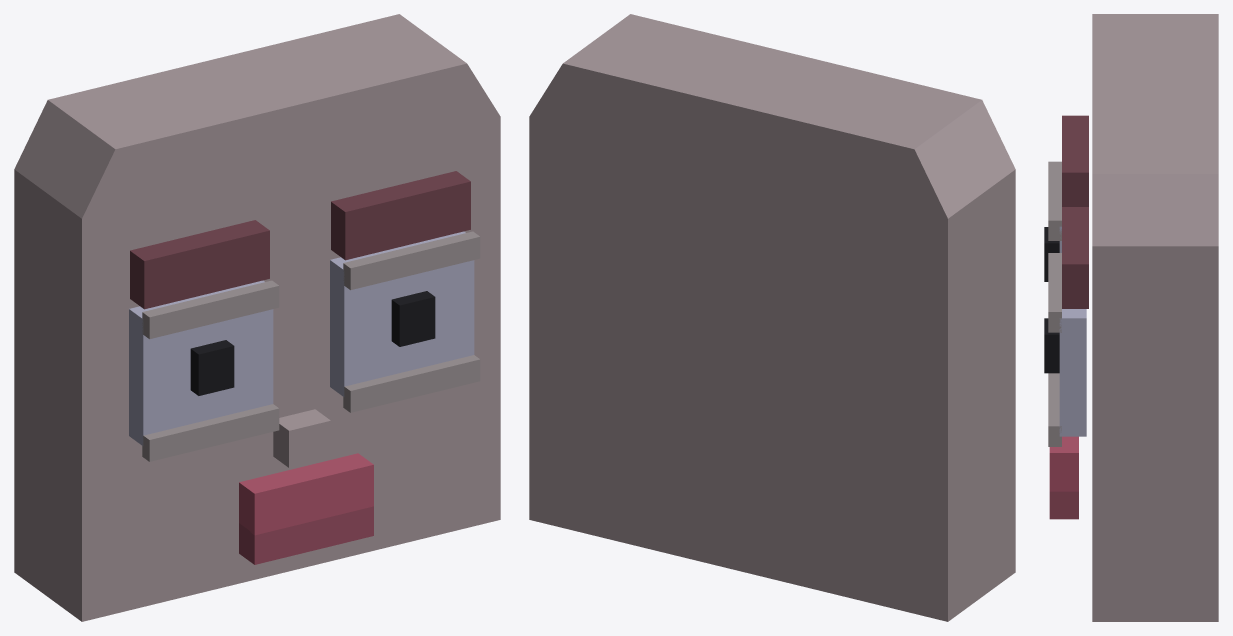
3 renders of one model, left to right at view 1: azimuth 30°, elevation 25°; view 2: azimuth 150°, elevation 25°; view 3: azimuth 270°, elevation 25°, orthographic. The views are drawn at different scales.
Parts seen in each view (by area): view 1: HEAD - flat low-poly rectangle, Eye_L, Eye_R, Eyebrow_L, Eyebrow_R, Upper_lip, Lower_lip, Upper_lid_L, Upper_lid_R, Lower_lid_R, Lower_lid_L, Nose (+2 smaller); view 2: HEAD - flat low-poly rectangle; view 3: HEAD - flat low-poly rectangle, Eye_R, Eyebrow_R, Eyebrow_L, Upper_lip, Upper_lid_L, Upper_lid_R, Lower_lid_R, Lower_lip, Pupil_R, Pupil_L.
Part boxes in pixels (<box>): HEAD - flat low-poly rectangle: <box>14,14,500,621</box>; Eye_L: <box>129,280,273,445</box>; Eye_R: <box>330,231,474,396</box>; Eyebrow_L: <box>130,220,269,309</box>; Eyebrow_R: <box>331,171,470,260</box>; Upper_lip: <box>239,453,373,535</box>; Lower_lip: <box>239,506,373,564</box>; Upper_lid_L: <box>142,280,279,339</box>; Upper_lid_R: <box>343,231,480,290</box>; Lower_lid_R: <box>343,355,480,412</box>; Lower_lid_L: <box>142,404,279,461</box>; Nose: <box>273,409,330,467</box>; HEAD - flat low-poly rectangle: <box>529,14,1015,621</box>; HEAD - flat low-poly rectangle: <box>1092,14,1218,621</box>; Eye_R: <box>1059,309,1086,436</box>; Eyebrow_R: <box>1062,207,1088,308</box>; Eyebrow_L: <box>1062,115,1088,206</box>; Upper_lip: <box>1049,436,1078,491</box>; Upper_lid_L: <box>1048,161,1061,240</box>; Upper_lid_R: <box>1048,253,1061,332</box>; Lower_lid_R: <box>1048,373,1061,446</box>; Lower_lip: <box>1049,491,1078,519</box>; Pupil_R: <box>1044,318,1059,373</box>; Pupil_L: <box>1044,227,1059,281</box>.
Bounding box in the file's own units: 2 × 2.12 × 0.7725.
